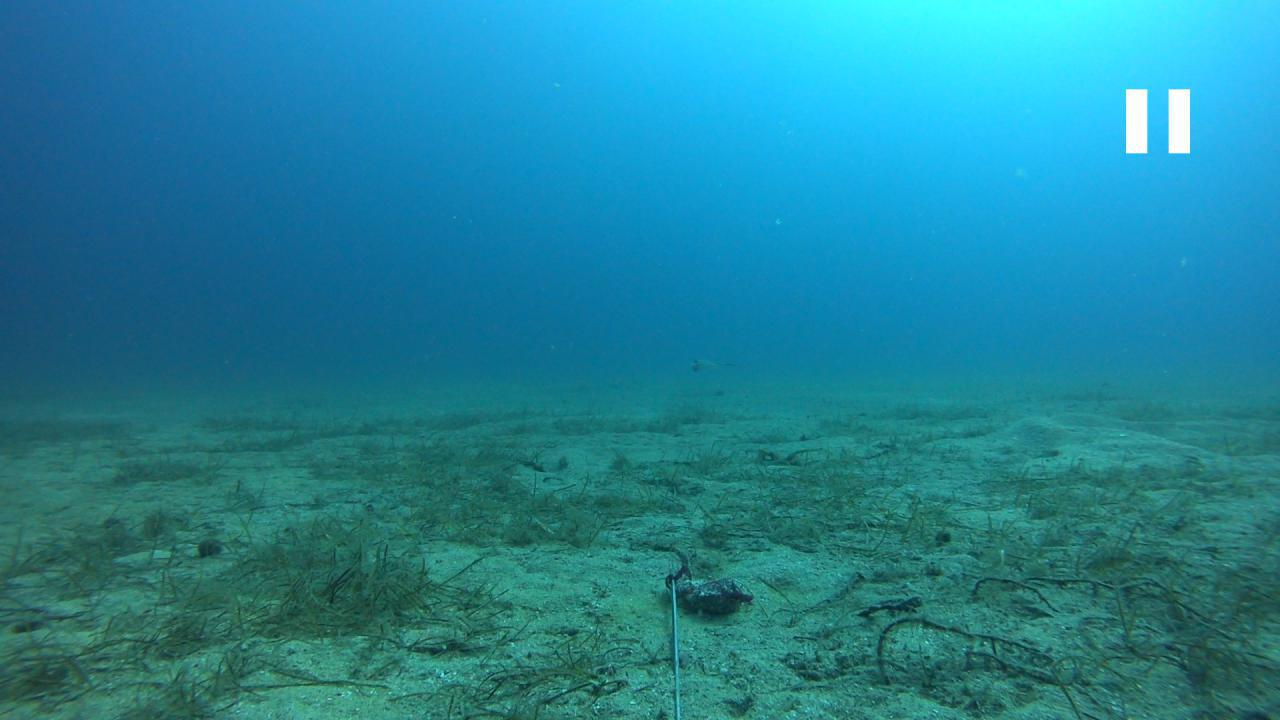dasyatis: (690, 357, 744, 373)
